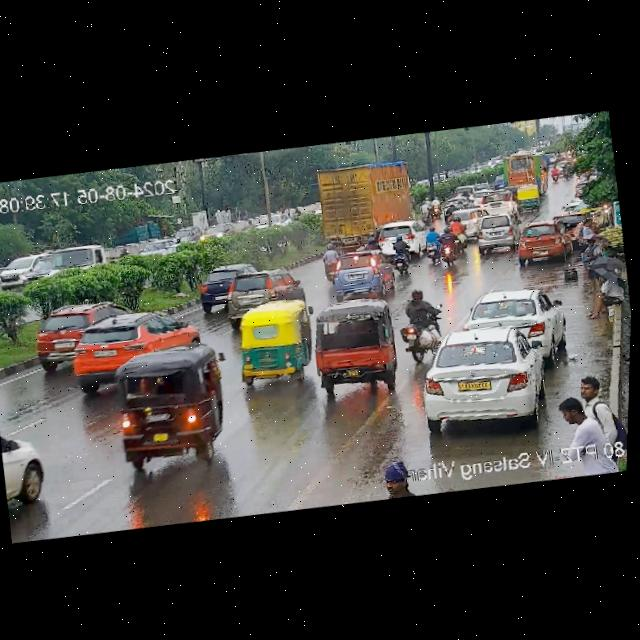bus: (498, 147, 556, 197)
car: (408, 318, 571, 439), (104, 341, 238, 474), (59, 305, 206, 388), (25, 293, 159, 363), (301, 298, 399, 393), (227, 296, 315, 388), (462, 282, 565, 354), (0, 415, 55, 525), (215, 267, 303, 315), (193, 260, 265, 311), (331, 248, 395, 301), (515, 221, 573, 264), (467, 212, 518, 255), (375, 219, 431, 256), (475, 187, 516, 218), (554, 198, 585, 231), (463, 207, 488, 241), (513, 185, 543, 213), (492, 174, 506, 189), (477, 180, 492, 190)
motorcycle: (395, 282, 452, 363), (417, 228, 447, 270), (384, 234, 415, 274), (435, 226, 464, 266), (318, 242, 341, 281), (417, 195, 443, 219), (446, 218, 466, 241), (552, 162, 573, 183), (360, 233, 381, 252), (446, 201, 465, 214), (556, 160, 566, 175), (462, 188, 469, 196)
person: (581, 269, 625, 318), (557, 395, 600, 443), (375, 458, 419, 499), (570, 372, 610, 408), (578, 219, 596, 247)
truck: (300, 156, 429, 256)
